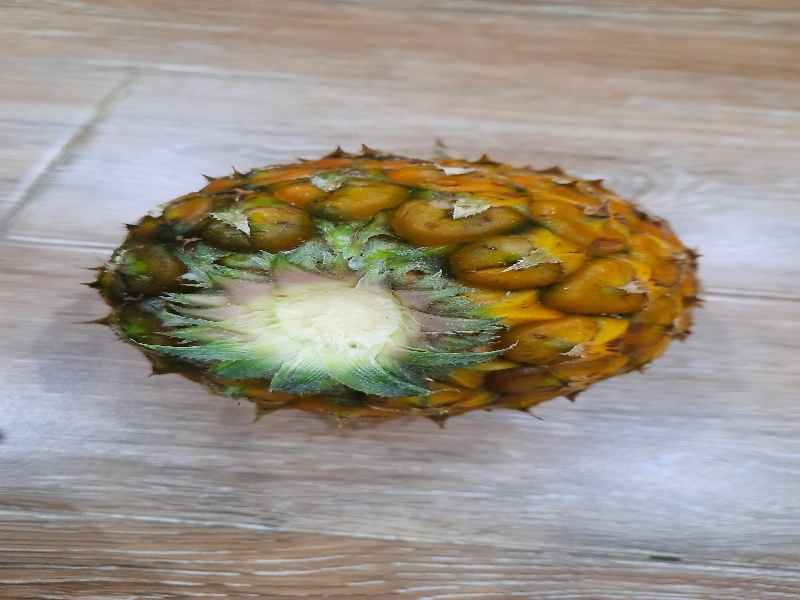fruit: (92, 142, 702, 439)
